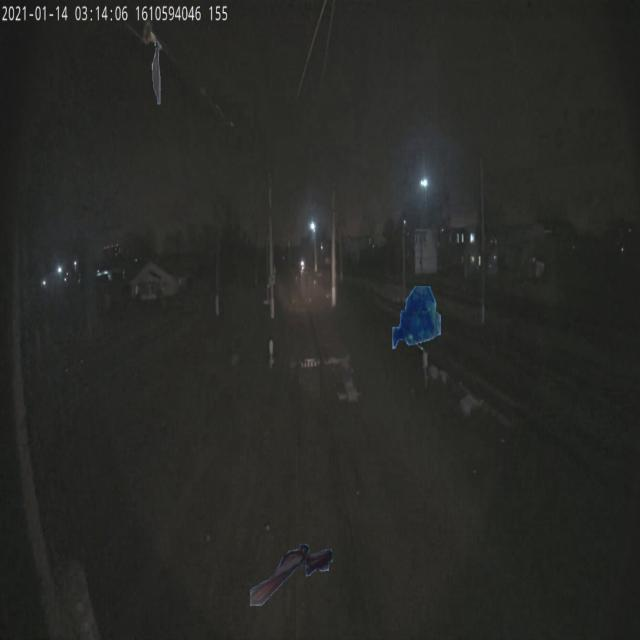floating object: (250, 542, 332, 606), (152, 40, 166, 104)
plastic bag: (392, 285, 443, 349)
